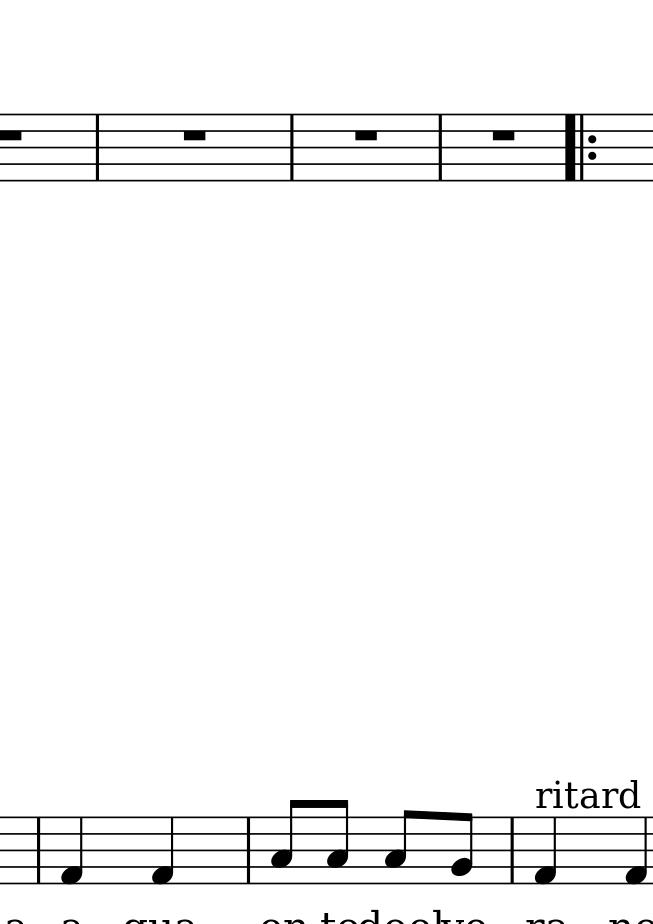4_1: (530, 816, 561, 885), (620, 816, 651, 884), (152, 813, 176, 887), (60, 814, 85, 884)
8_2: (449, 811, 477, 885)
8_3: (271, 796, 303, 887), (324, 797, 353, 888), (385, 808, 418, 887)
LeftRepeatSign: (561, 113, 598, 184)
Rests1: (351, 126, 382, 145), (179, 126, 209, 144), (490, 129, 520, 143), (1, 128, 27, 144)
Single_barline: (88, 113, 109, 184), (31, 815, 50, 885), (239, 815, 258, 885), (284, 113, 302, 184), (432, 113, 450, 182), (506, 816, 521, 886)
